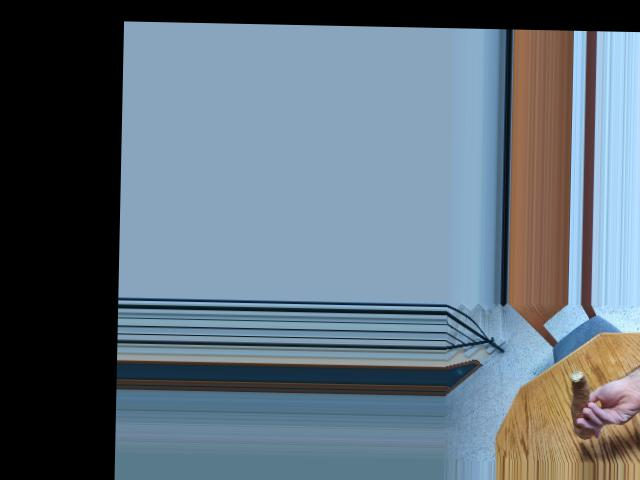sweet_potato: (567, 369, 598, 438)
